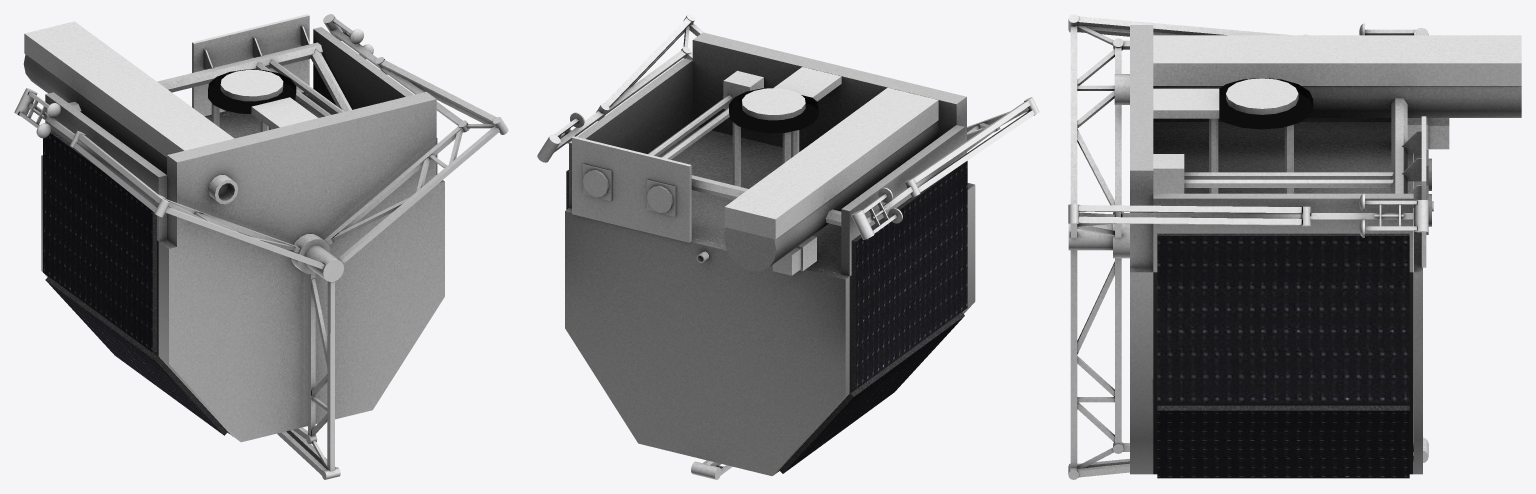
File: philae.glb
The picture shows the model from 3 angles, left to right: view 1: azimuth 30°, elevation 25°; view 2: azimuth 150°, elevation 25°; view 3: azimuth 270°, elevation 25°; orthographic projection. The views are drawn at different scales.
Parts seen in each view (by area): view 1: Philae, dish.002, vents.004; view 2: dish.002, Philae, vents.004, dish.003; view 3: dish.002, vents.004, Philae, lander.001.
Boxes of the visible parts, left/top/right/bottom form: Philae: left=41, top=94, right=444, bottom=442; dish.002: left=14, top=14, right=508, bottom=479; vents.004: left=43, top=129, right=437, bottom=436; dish.002: left=537, top=14, right=1039, bottom=479; Philae: left=565, top=97, right=975, bottom=475; vents.004: left=566, top=161, right=967, bottom=473; dish.003: left=724, top=207, right=776, bottom=271; dish.002: left=1068, top=14, right=1521, bottom=479; vents.004: left=1157, top=233, right=1409, bottom=478; Philae: left=1130, top=198, right=1422, bottom=474; lander.001: left=1153, top=272, right=1413, bottom=474.
Bounding box in the file's own units: 1.3 × 1.17 × 1.26.
4 materials, 3 textured.
